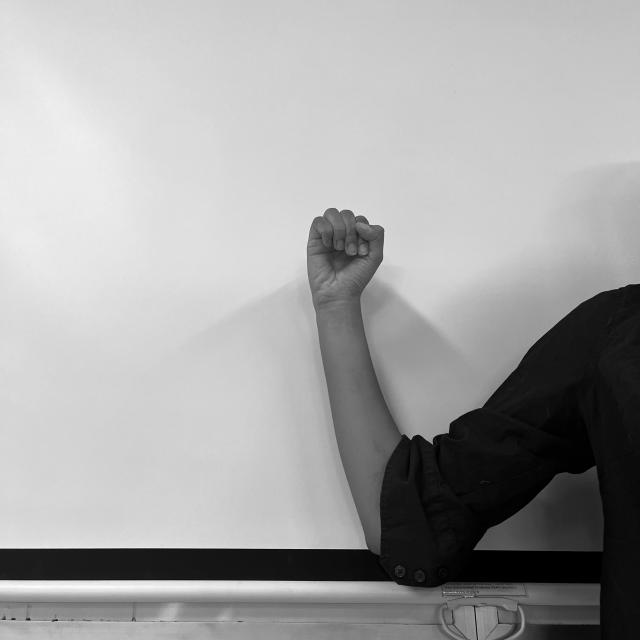Letra S: (303, 205, 389, 302)
